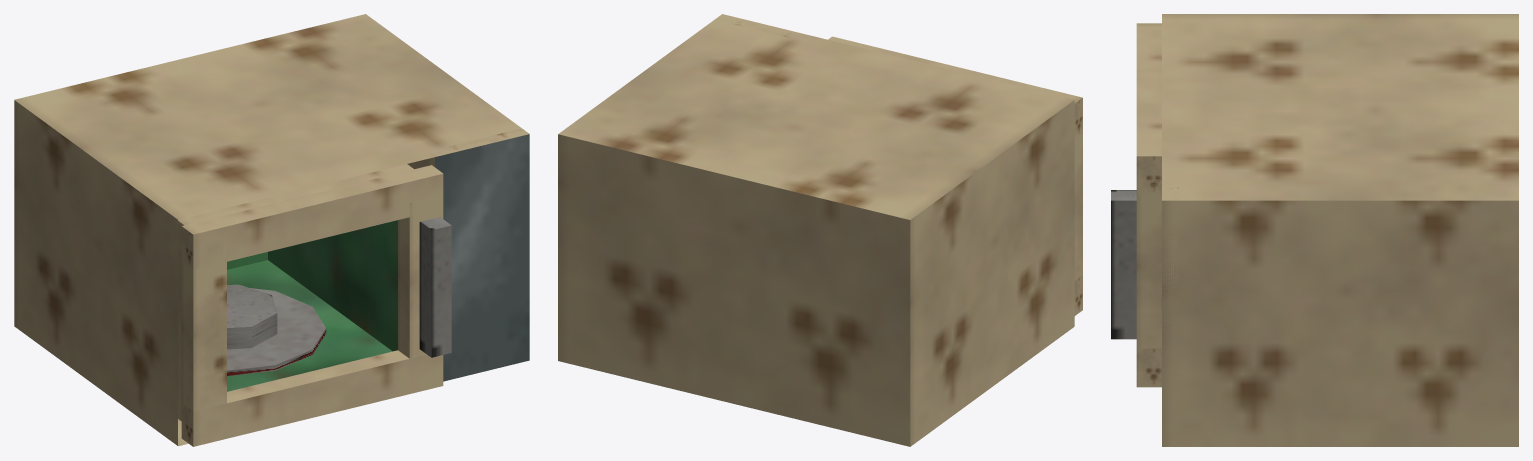
File: microwave.fbx
3 views of the same model, side by side, from view 1: azimuth 30°, elevation 25°; view 2: azimuth 150°, elevation 25°; view 3: azimuth 270°, elevation 25° (orthographic). The views are drawn at different scales.
Parts seen in each view (by area): view 1: microwave, microwave_door, microwave_plate; view 2: microwave, microwave_door; view 3: microwave, microwave_door.
Part boxes in pixels (x1=…): microwave: x1=14, y1=14, x2=529, y2=446; microwave_door: x1=181, y1=165, x2=451, y2=446; microwave_plate: x1=227, y1=284, x2=326, y2=376; microwave: x1=558, y1=14, x2=1074, y2=446; microwave_door: x1=828, y1=36, x2=1082, y2=315; microwave: x1=1162, y1=14, x2=1518, y2=446; microwave_door: x1=1111, y1=23, x2=1161, y2=387.
Bounding box in the file's own units: 0.52 × 0.32 × 0.48.
